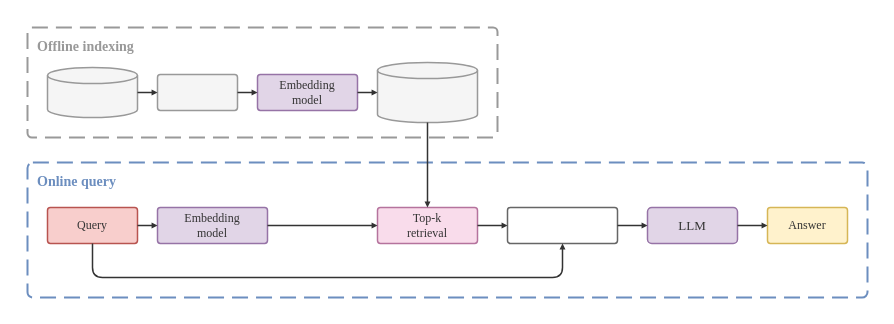
Some shapes in this 894 by 324 pixel diagram are drawn without their labels. Each missing label, with the centre of its shape:
"Chunking" goes at [197,92].
"Documents" goes at [92,92].
"Prompt = query + docs" goes at [562,225].
"Vector store" goes at [427,92].
